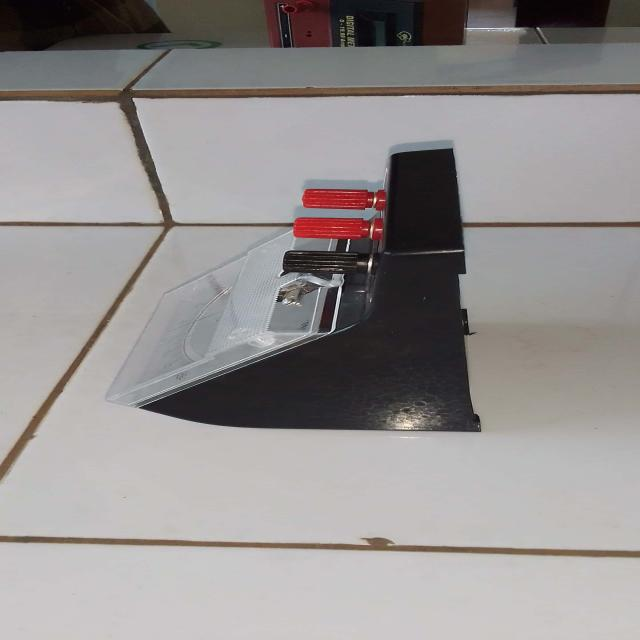Galvanometer: (131, 130, 531, 450)
